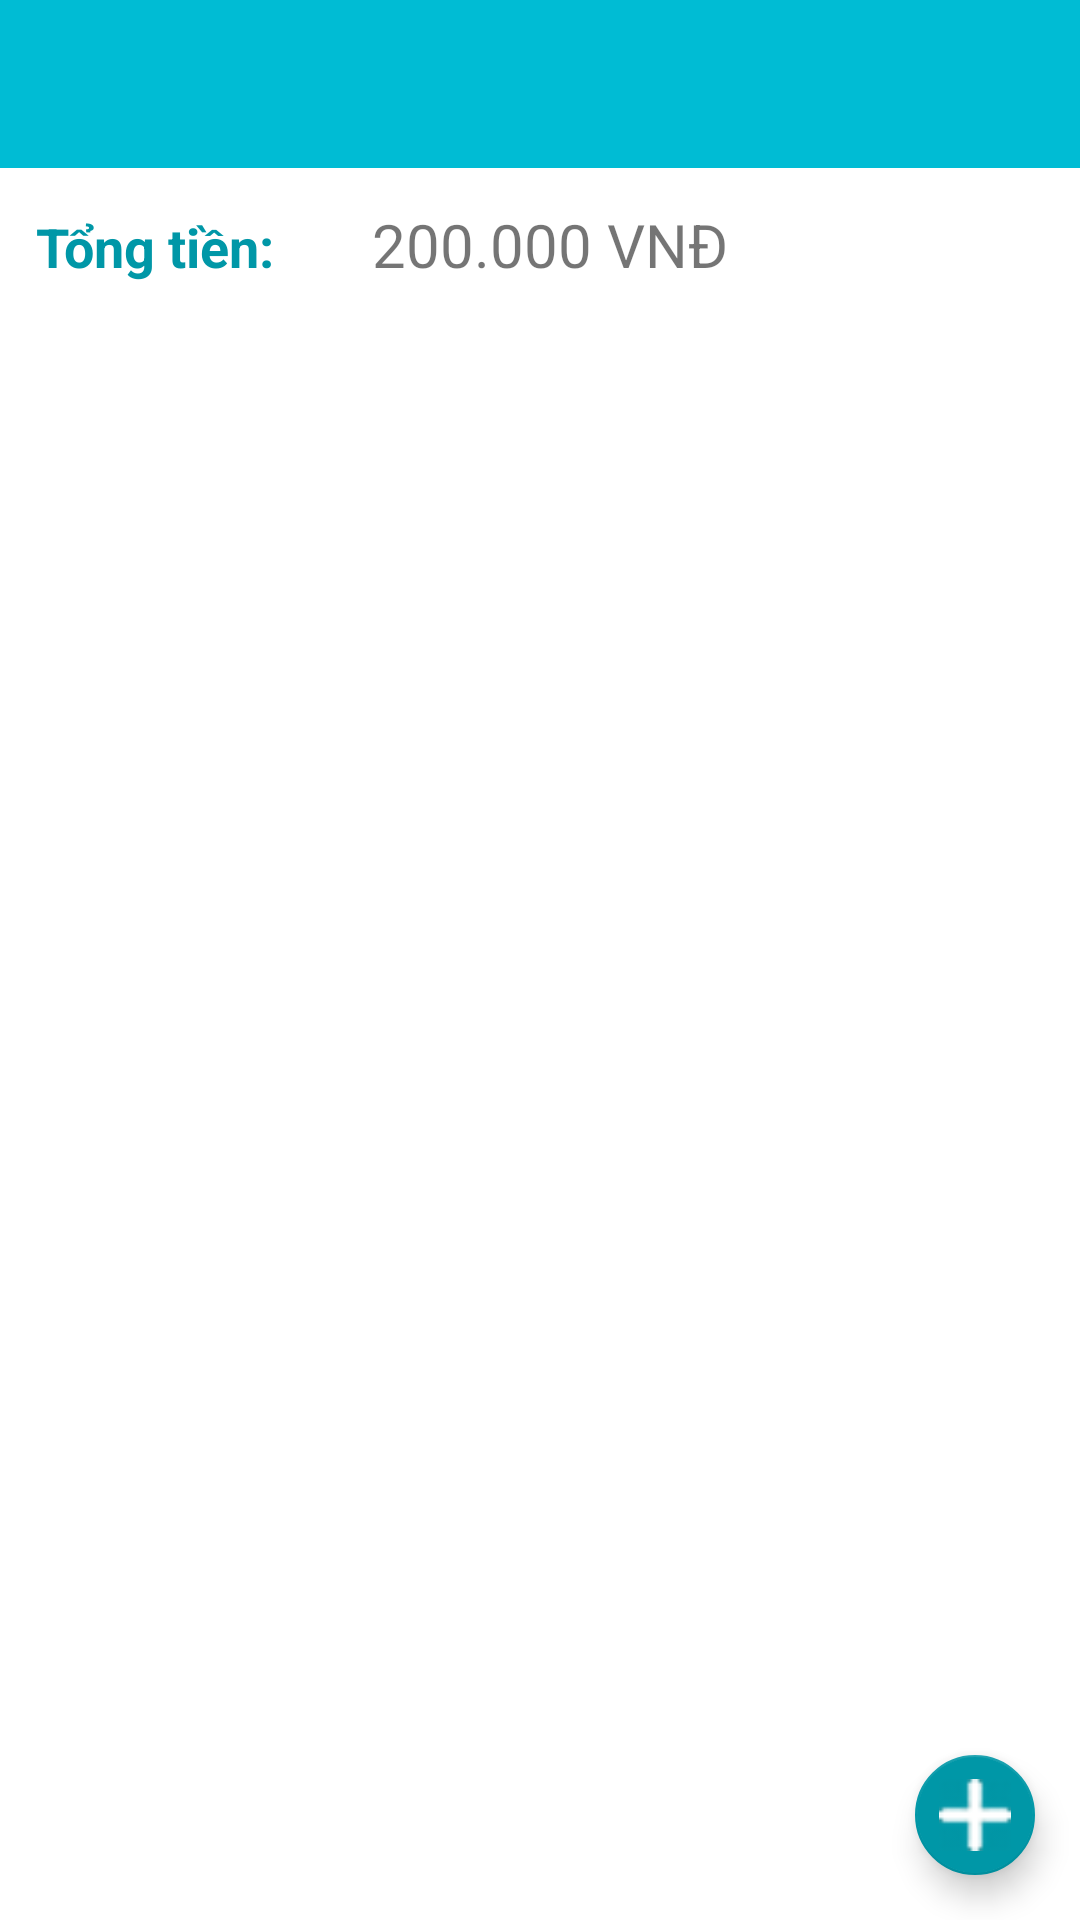

Screen size 1080px x 1920px. Icon name, then its center in pixels as (x=x, y=y):
add: (x=975, y=1815)
